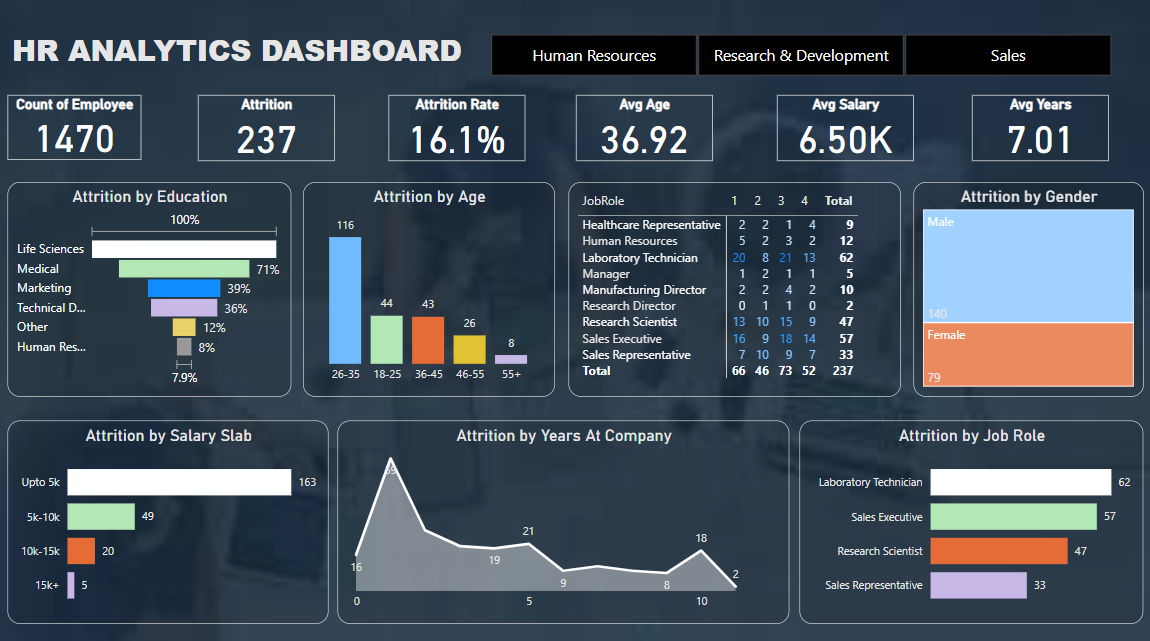

The dashboard page shown, as its layout file describes it:
{"tool":"powerbi","page":{"name":"Page 1","canvas":[1280,720],"ordinal":0},"visuals":[{"type":"card","title":"Count of Employee","fields":{"Values":["CountNonNull(HR_Analytics.EmpID)"]},"box":[8.3,106.7,148.3,71.7],"z":0},{"type":"card","title":"Attrition Rate","fields":{"Values":["HR_Analytics.AttritionRate"]},"box":[418.3,106.7,151.7,73.3],"z":1000},{"type":"card","title":"Attrition","fields":{"Values":["Sum(HR_Analytics.Attrition Count)"]},"box":[206.7,106.7,151.7,73.3],"z":2000},{"type":"card","title":"Avg Age","fields":{"Values":["Avg(HR_Analytics.Age)"]},"box":[626.7,106.7,151.7,73.3],"z":3000},{"type":"card","title":"Avg Salary","fields":{"Values":["Avg(HR_Analytics.MonthlyIncome)"]},"box":[850,106.7,151.7,73.3],"z":4000},{"type":"card","title":"Avg Years","fields":{"Values":["Avg(HR_Analytics.YearsAtCompany)"]},"box":[1066.7,106.7,151.7,73.3],"z":5000},{"type":"donutChart","title":"Attrition by Education","fields":{"Category":["HR_Analytics.EducationField"],"Y":["Sum(HR_Analytics.Attrition Count)"]},"box":[7.8,202.9,286,239.1],"z":6000},{"type":"columnChart","title":"Attrition by Age","fields":{"Category":["HR_Analytics.AgeGroup"],"Y":["Sum(HR_Analytics.Attrition Count)"]},"box":[308.5,203.3,307.9,238.4],"z":7000},{"type":"pivotTable","fields":{"Rows":["HR_Analytics.JobRole"],"Columns":["HR_Analytics.JobSatisfaction"],"Values":["Sum(HR_Analytics.Attrition Count)"]},"box":[631.1,203.3,369.5,238.4],"z":8000},{"type":"barChart","title":"Attrition by Salary Slab","fields":{"Category":["HR_Analytics.SalarySlab"],"Y":["Sum(HR_Analytics.Attrition Count)"]},"box":[7.9,469,356.8,225.8],"z":9000},{"type":"barChart","title":"Attrition by Job Role","fields":{"Y":["Sum(HR_Analytics.Attrition Count)"],"Category":["HR_Analytics.JobRole"]},"box":[889,469,382.1,225.8],"z":10000},{"type":"areaChart","title":"Attrition by Years At Company","fields":{"Category":["HR_Analytics.YearsAtCompany"],"Y":["Sum(HR_Analytics.Attrition Count)"]},"box":[375.8,469,502.1,225.8],"z":11000},{"type":"treemap","title":"Attrition by Gender","fields":{"Group":["HR_Analytics.Gender"],"Values":["Sum(HR_Analytics.Attrition Count)"]},"box":[1015.3,203.3,255.8,238.4],"z":12000},{"type":"textbox","box":[8.3,28.3,548.3,63.3],"z":13000},{"type":"slicer","fields":{"Values":["HR_Analytics.Department"]},"box":[520,18.3,700,73.3],"z":14000}]}

Visuals, with their boxes in screenshot pixels (x1, y1, x2, y2), scaled from the page's 1280x720 canvas onto the 1150x641 screenshot:
"Count of Employee" card: (x1=7, y1=95, x2=141, y2=159)
"Attrition Rate" card: (x1=376, y1=95, x2=512, y2=160)
"Attrition" card: (x1=186, y1=95, x2=322, y2=160)
"Avg Age" card: (x1=563, y1=95, x2=699, y2=160)
"Avg Salary" card: (x1=764, y1=95, x2=900, y2=160)
"Avg Years" card: (x1=958, y1=95, x2=1095, y2=160)
"Attrition by Education" donutChart: (x1=7, y1=181, x2=264, y2=394)
"Attrition by Age" columnChart: (x1=277, y1=181, x2=554, y2=393)
pivotTable - HR_Analytics.JobRole x HR_Analytics.JobSatisfaction: (x1=567, y1=181, x2=899, y2=393)
"Attrition by Salary Slab" barChart: (x1=7, y1=418, x2=328, y2=619)
"Attrition by Job Role" barChart: (x1=799, y1=418, x2=1142, y2=619)
"Attrition by Years At Company" areaChart: (x1=338, y1=418, x2=789, y2=619)
"Attrition by Gender" treemap: (x1=912, y1=181, x2=1142, y2=393)
textbox: (x1=7, y1=25, x2=500, y2=82)
slicer - HR_Analytics.Department: (x1=467, y1=16, x2=1096, y2=82)
